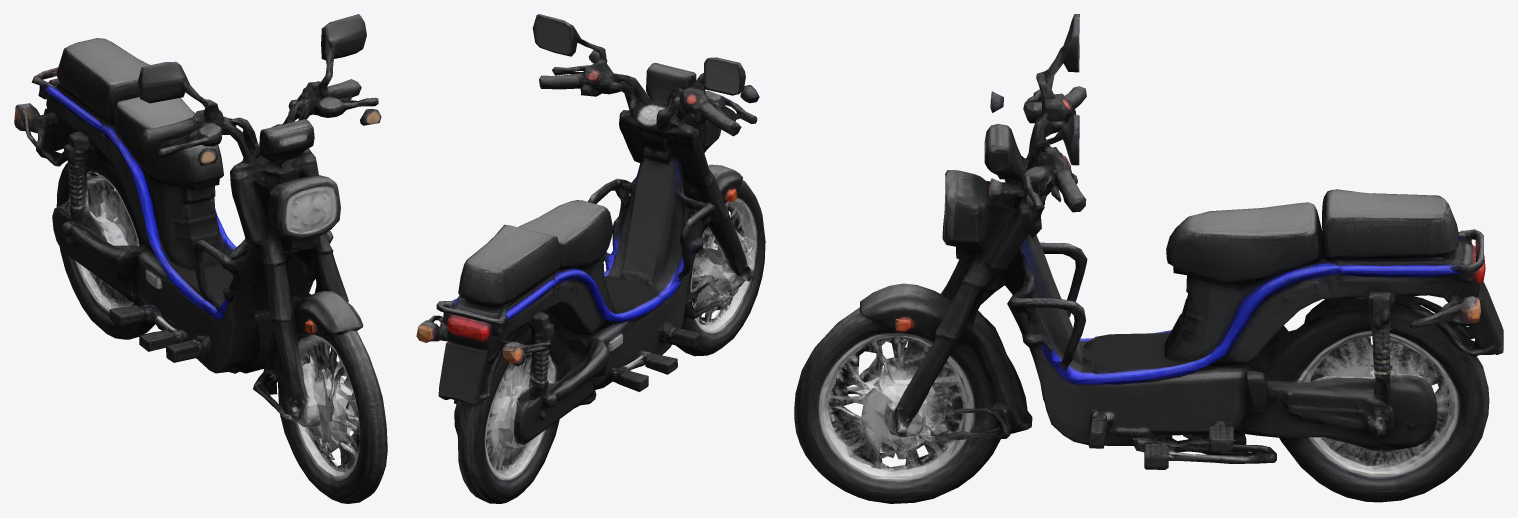
The model's file is sample.glb.
3 renders of one model, left to right at view 1: azimuth 30°, elevation 25°; view 2: azimuth 150°, elevation 25°; view 3: azimuth 270°, elevation 25°, orthographic. The views are drawn at different scales.
Parts seen in each view (by area): view 1: world; view 2: world; view 3: world.
Boxes of the visible parts, box(x1,y1,x2,y2) form: world: box(14, 14, 387, 503); world: box(416, 14, 765, 503); world: box(794, 14, 1503, 503).
Size of the model in its own units: 0.4012 by 0.6709 by 1.
1 material, 1 textured.
